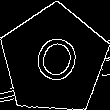O_S: (25, 28, 83, 92)
